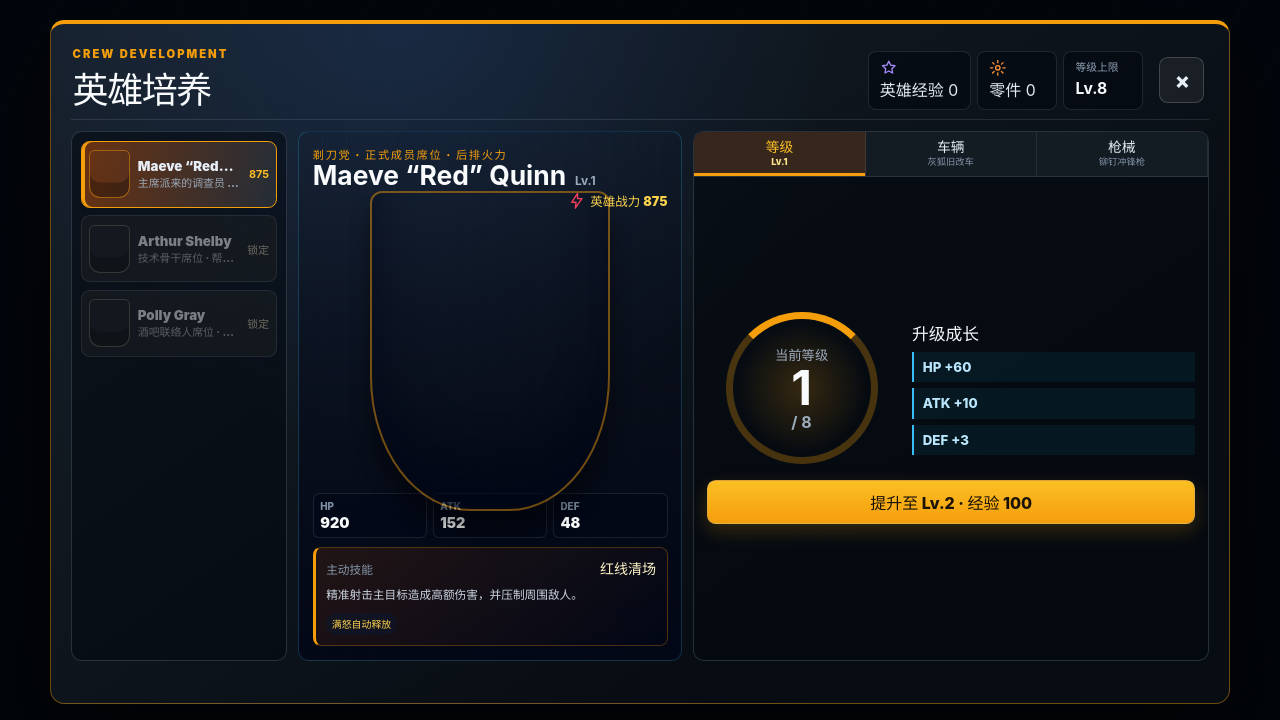
Test: HeroesPanel › removes the salvage countdown while keeping storage and five-quality recycling
Expected: the text "废车回收厂" is not shown
Click the button "车辆 灰狐旧改车" at point(951, 154), box top-left (866, 132), bottom-right (1037, 176)
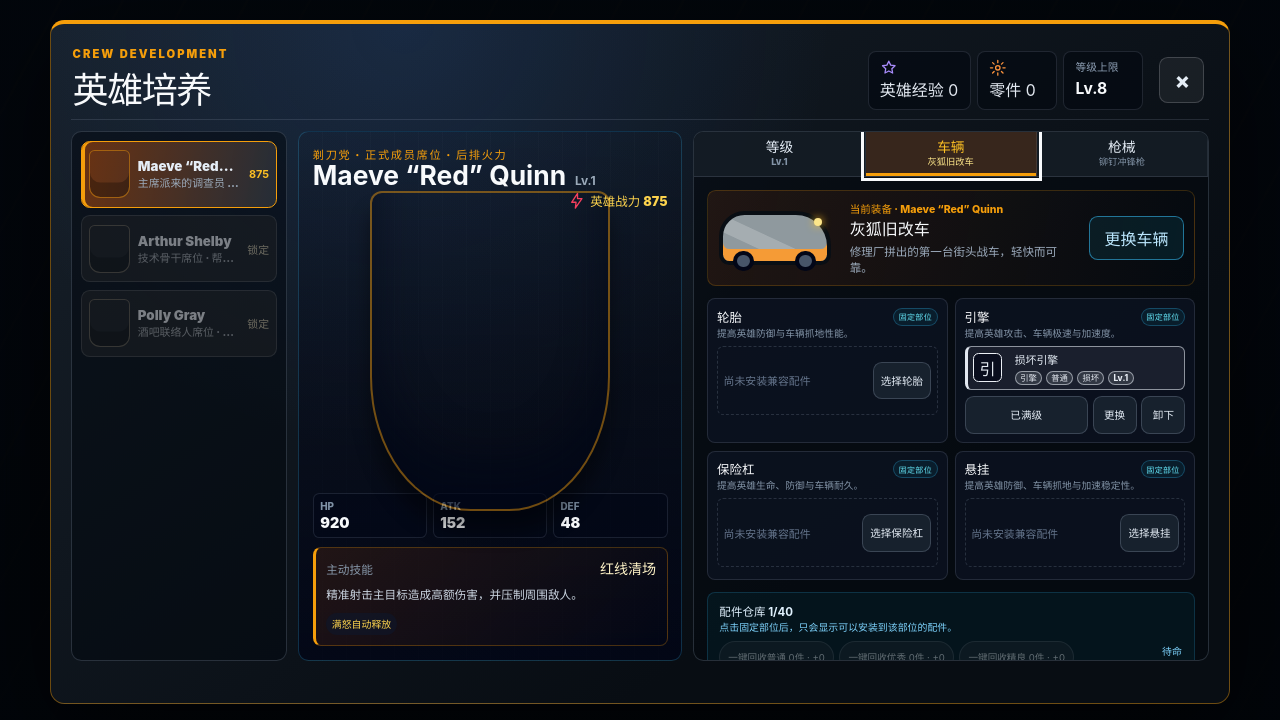
Expected: the text "配件仓库 1/40" is shown, top-left (719, 605), bottom-right (793, 619)
Click the button "选择轮胎" at point(902, 380), box top-left (873, 362), bottom-right (931, 399)
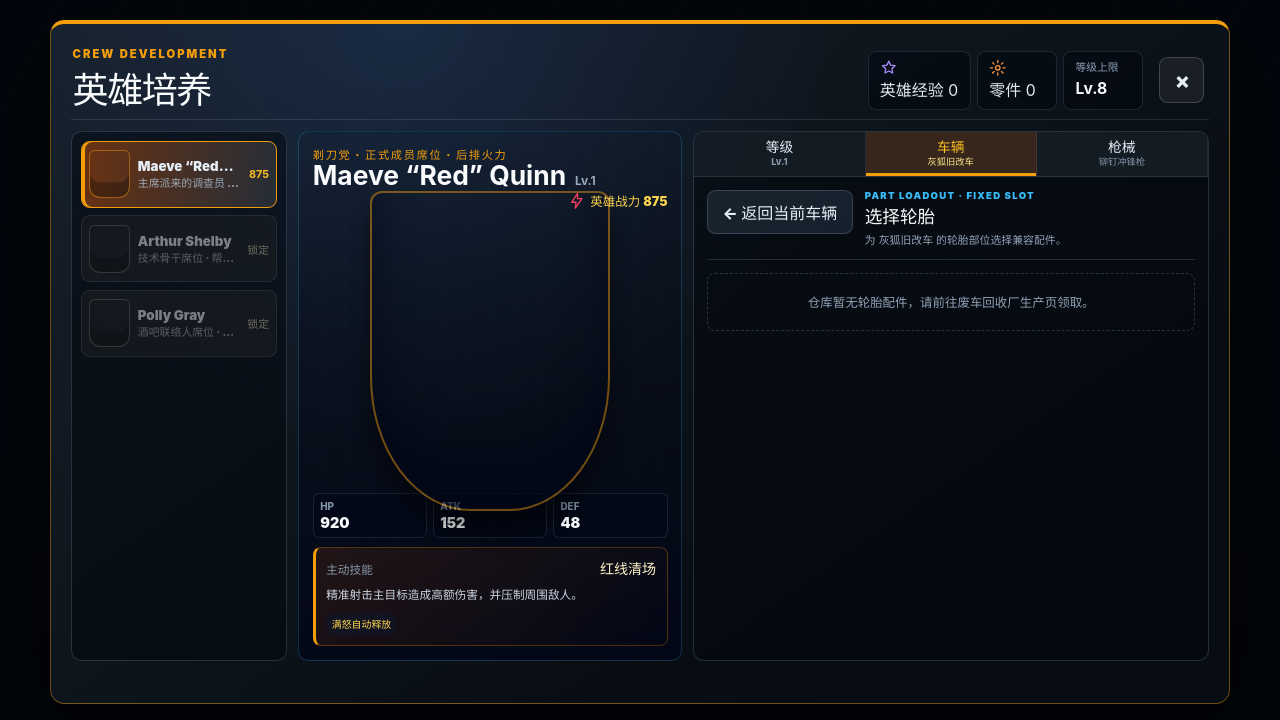
Expected: the text "仓库暂无轮胎配件，请前往废车回收厂生产页领取。" is shown, top-left (707, 273), bottom-right (1195, 331)
